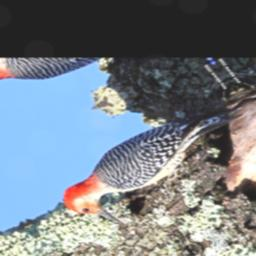Woodpecker: (38, 95, 256, 236)
